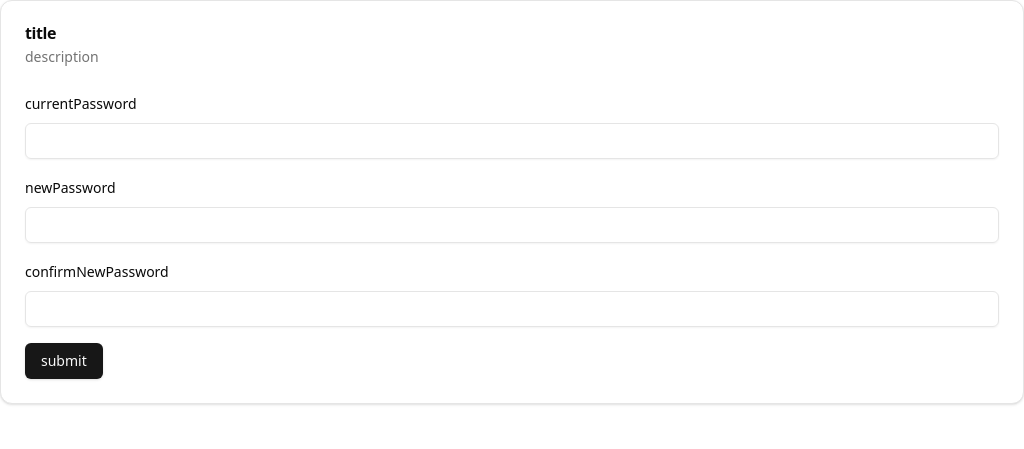
Test: PasswordForm › shows validation error when new password equals current
In the password field labelled "currentPassword": x=512, y=141 x1=25 y1=123 x2=999 y2=159, type "SamePass1!"
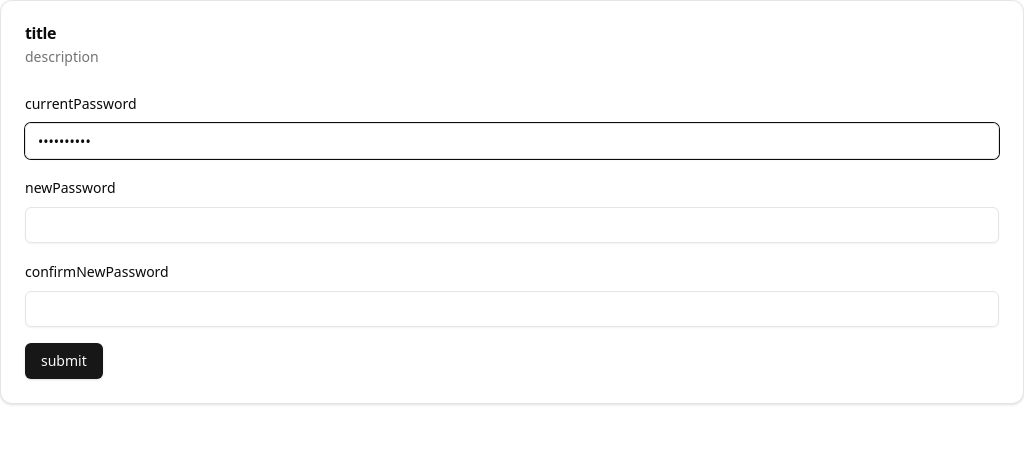
In the password field labelled "newPassword": x=512, y=225 x1=25 y1=207 x2=999 y2=243, type "SamePass1!"
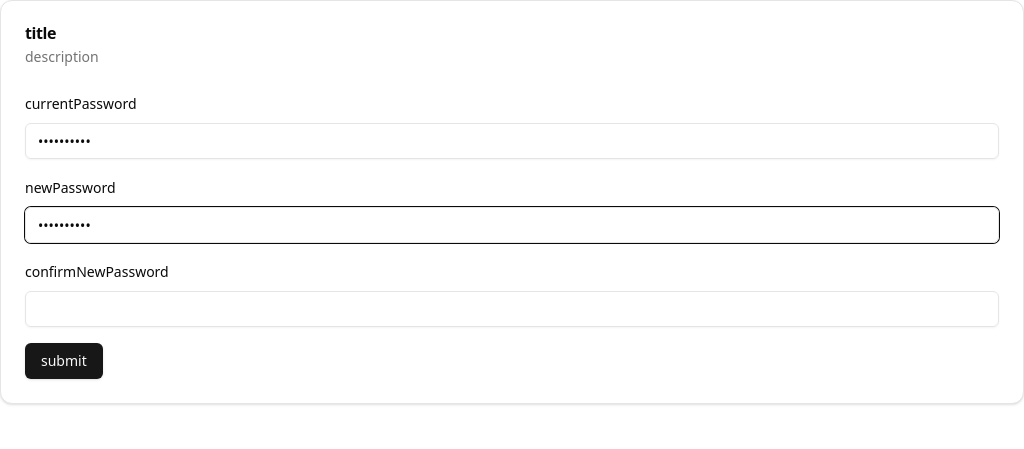
In the password field labelled "confirmNewPassword": x=512, y=309 x1=25 y1=291 x2=999 y2=327, type "SamePass1!"
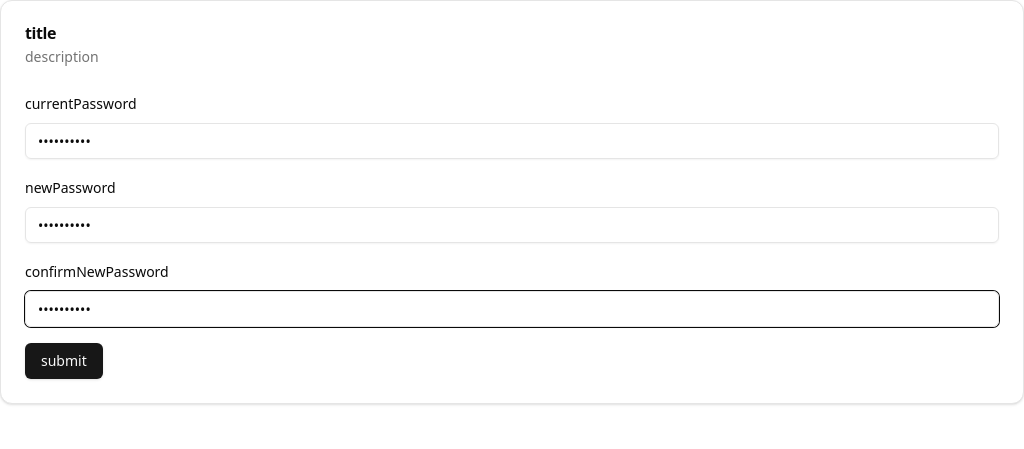
Click the button "submit": x=64, y=361 x1=25 y1=343 x2=103 y2=379
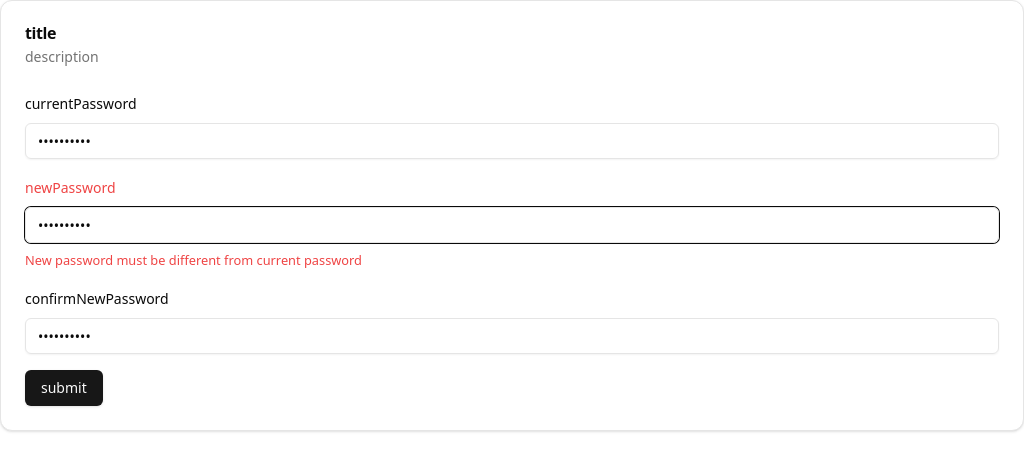
Result: the text "New password must be different from current password" is shown at x1=25 y1=251 x2=362 y2=269
